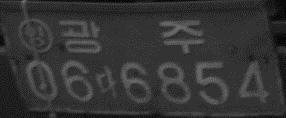0: (24, 60, 59, 103)
4: (236, 61, 269, 102)
5: (194, 61, 229, 106)
6: (120, 61, 154, 104), (60, 60, 94, 102)
8: (157, 61, 191, 105)
광주_D: (59, 18, 204, 54)
다: (95, 64, 118, 99)
영: (18, 18, 54, 55)
